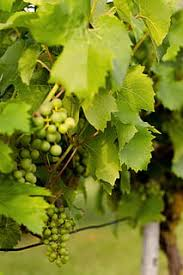grapes: (19, 103, 66, 188), (42, 201, 79, 273)
